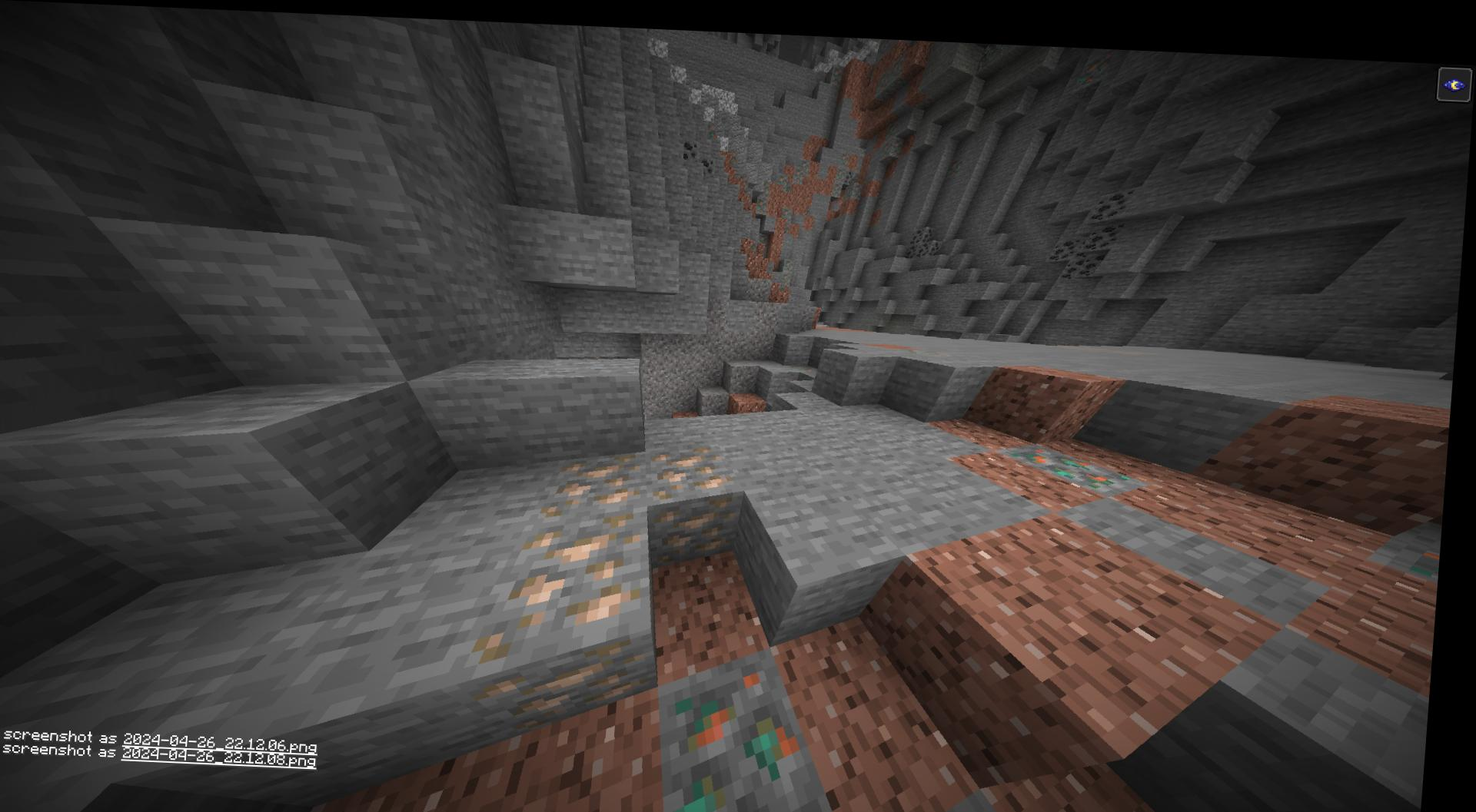iron ore: (503, 502, 641, 637), (515, 643, 660, 710), (553, 441, 653, 503), (658, 495, 752, 552), (652, 437, 737, 495)
